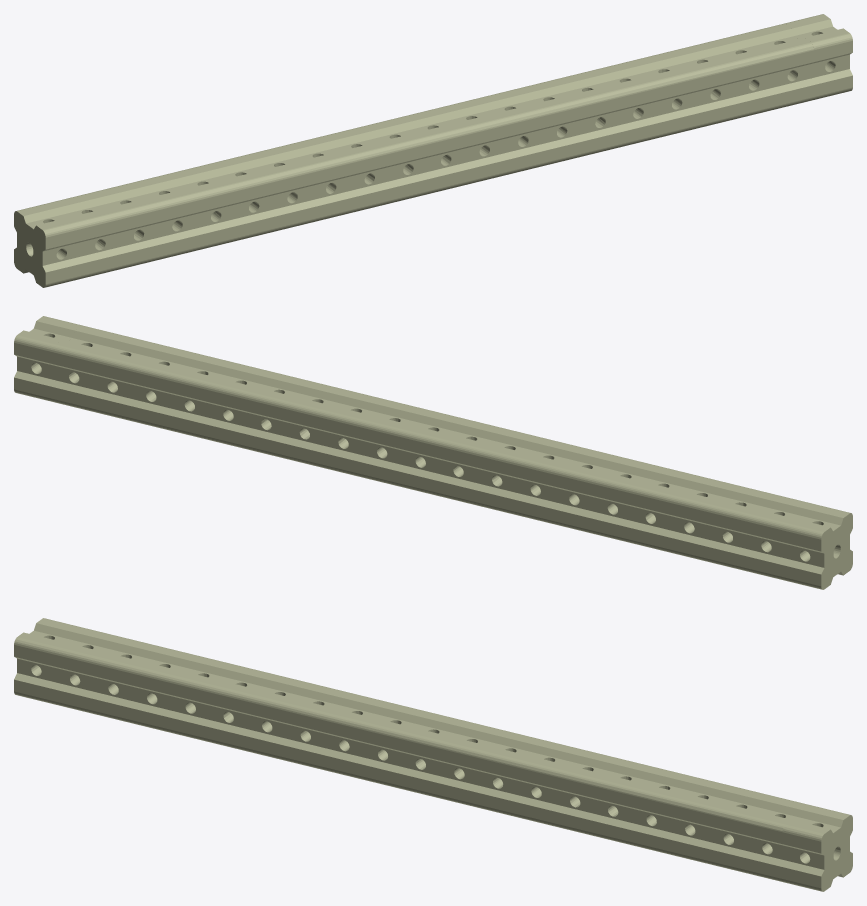
File: tinker.obj
The picture shows the model from 3 angles, top to bottom: view 1: azimuth 30°, elevation 25°; view 2: azimuth 150°, elevation 25°; view 3: azimuth 330°, elevation 25°; orthographic projection.
Visible parts, largest first — view 1: obj_0; view 2: obj_0; view 3: obj_0.
Boxes of the visible parts, box(x1,y1,x2,y2) form: obj_0: box(14, 14, 852, 287); obj_0: box(14, 316, 852, 589); obj_0: box(14, 618, 852, 891).
Size of the model in its own units: 294 by 20 by 19.99.
